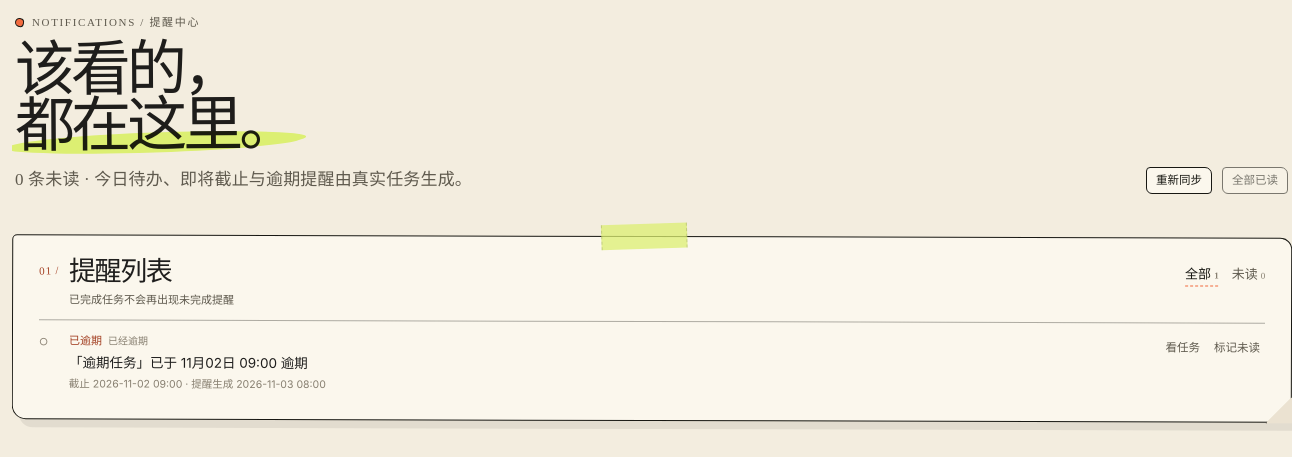
NotificationsPage › filters unread reminders and shows the empty state
Expected: the text "「逾期任务」已于 11月02日 09:00 逾期" is shown, [69,352,308,373]
Click the button "未读0".
click(1248, 275)  # box [1232,263,1265,286]
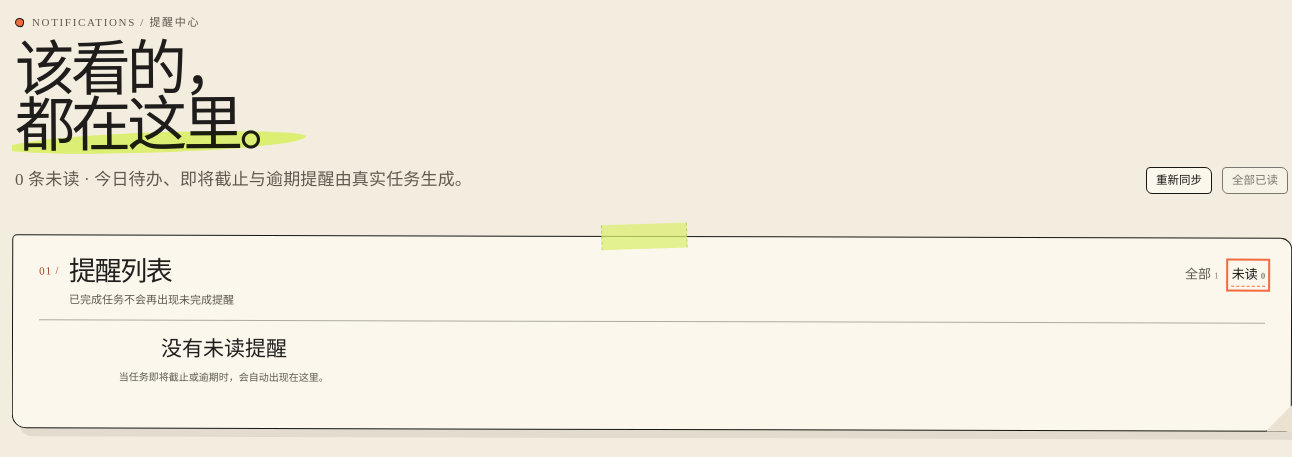
Result: the text "没有未读提醒" is shown at [161,334,287,363]
